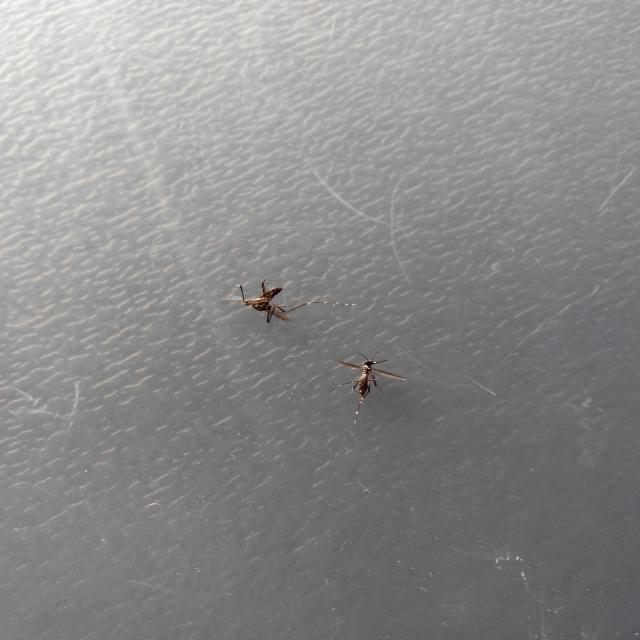albopictus: (323, 345, 413, 423)
